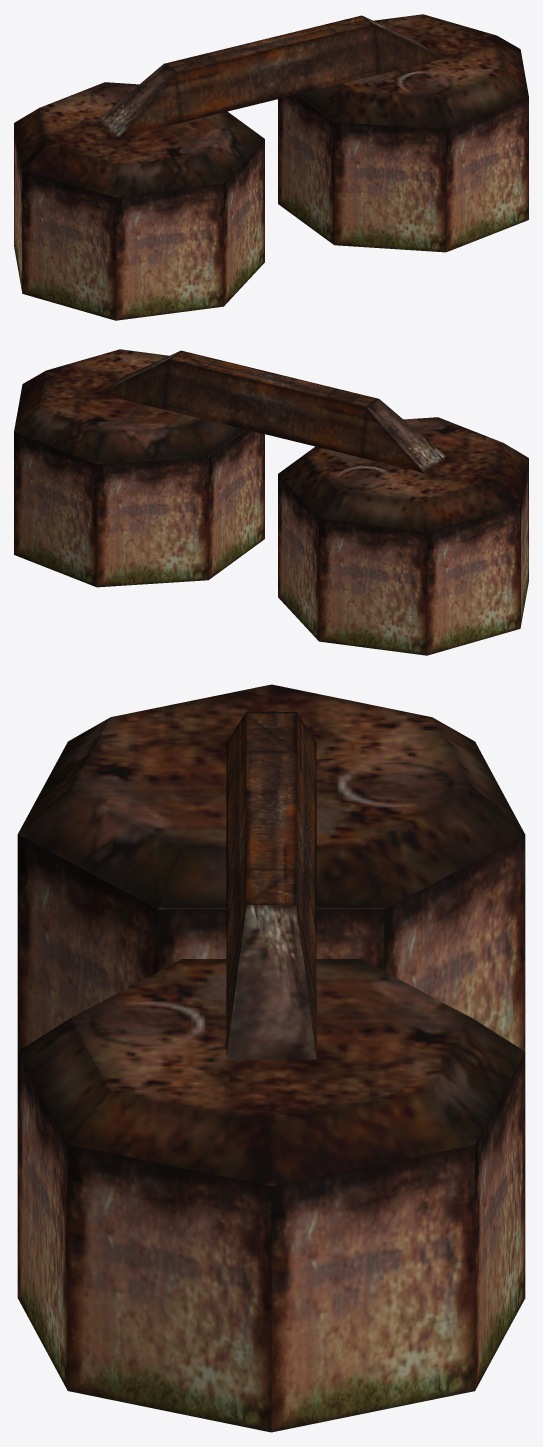
The model's file is reservoir-dual.obj.
The picture shows the model from 3 angles, top to bottom: view 1: azimuth 30°, elevation 25°; view 2: azimuth 150°, elevation 25°; view 3: azimuth 270°, elevation 25°; orthographic projection. The views are drawn at different scales.
Visible parts, largest first — view 1: ReservoirDual; view 2: ReservoirDual; view 3: ReservoirDual.
Boxes of the visible parts, left/top/right/bottom form: ReservoirDual: left=14, top=14, right=528, bottom=320; ReservoirDual: left=14, top=349, right=528, bottom=655; ReservoirDual: left=17, top=684, right=525, bottom=1432.
Size of the model in its own units: 36.88 by 13.4 by 16.29.
Materials: 1 (1 with a texture image).
